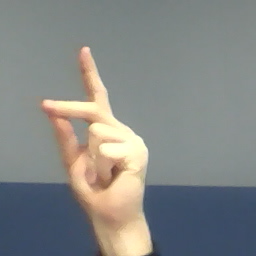K: (38, 45, 153, 213)
